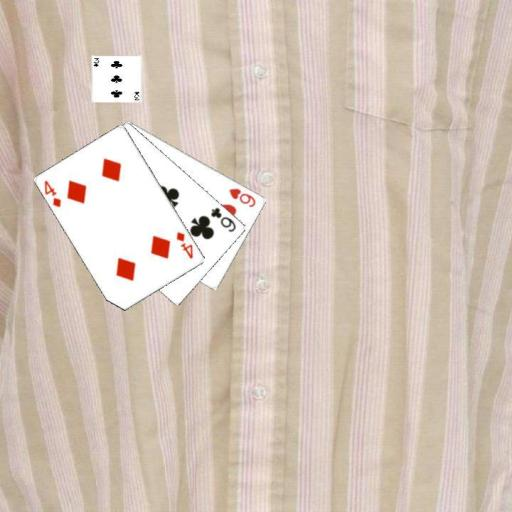4D: (41, 177, 63, 209), (173, 229, 195, 260)
6C: (208, 204, 238, 233)
6H: (226, 185, 258, 208)
